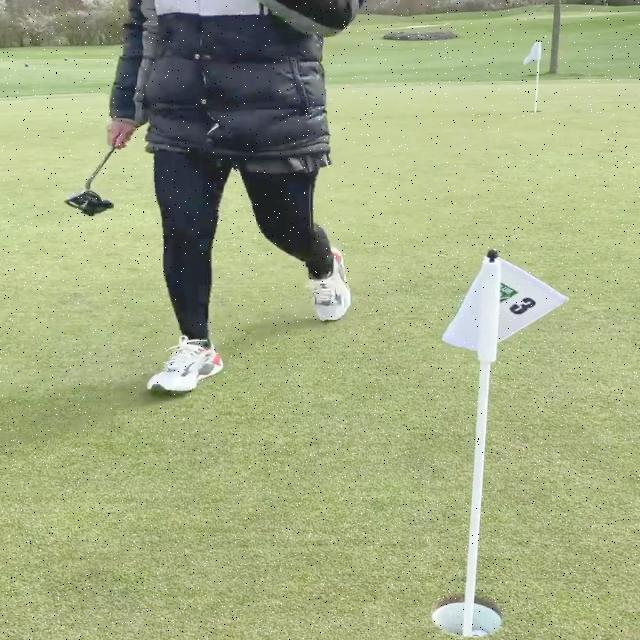ClubHandle: (61, 142, 121, 219)
ClubHead: (68, 192, 115, 218)
